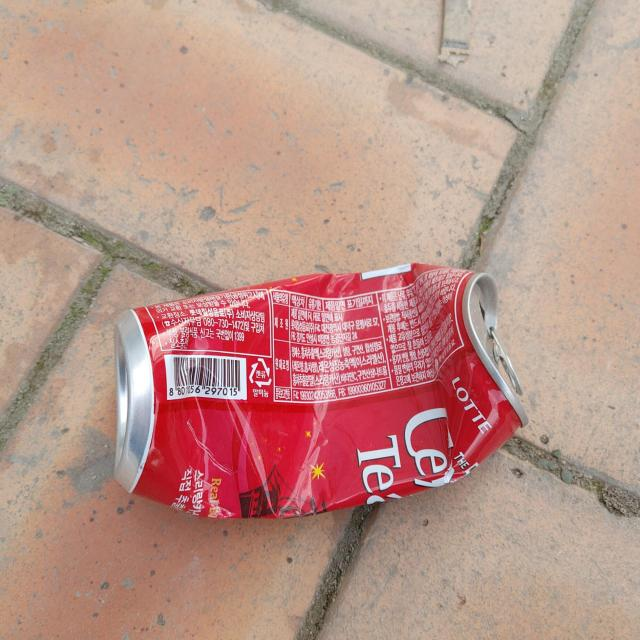can: (114, 264, 528, 519)
